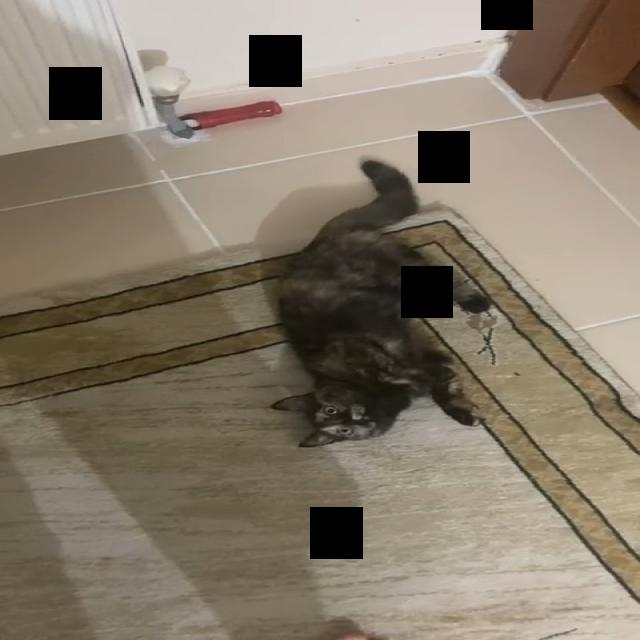authorized: (268, 157, 492, 448)
